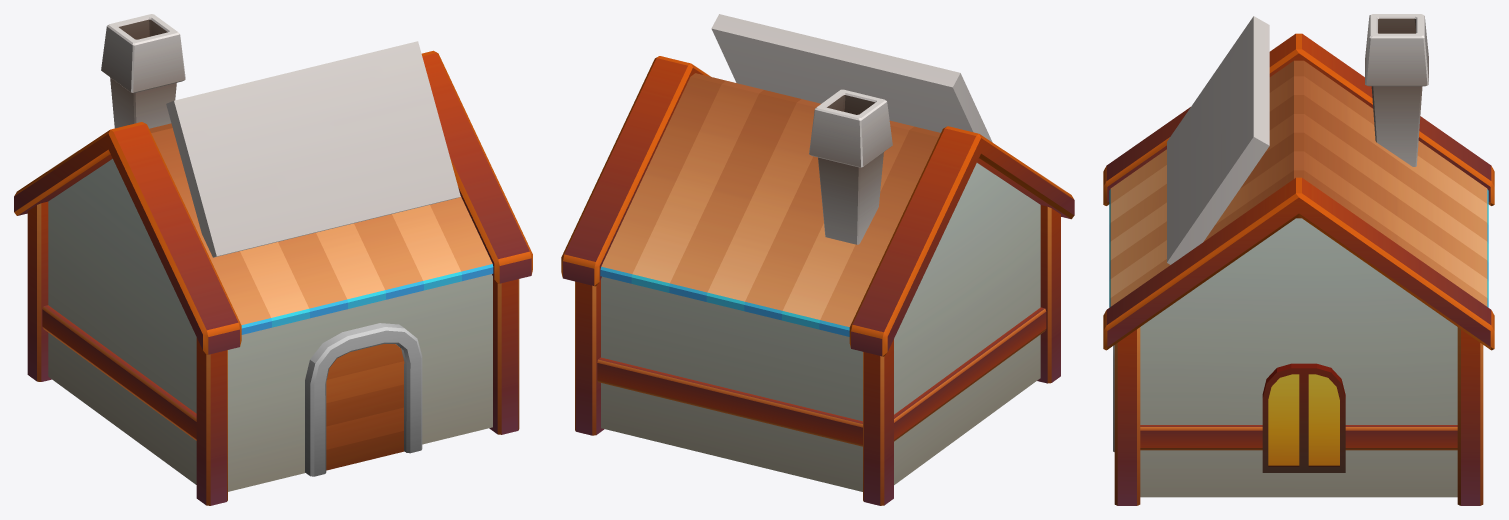
Rendered from Silver_House_1.fbx.
The picture shows the model from 3 angles, left to right: view 1: azimuth 30°, elevation 25°; view 2: azimuth 150°, elevation 25°; view 3: azimuth 270°, elevation 25°; orthographic projection. The views are drawn at different scales.
Visible parts, largest first — view 1: Silver_House_Lv1; view 2: Silver_House_Lv1; view 3: Silver_House_Lv1.
Part boxes in pixels (x1,y1,x2,y2): Silver_House_Lv1: (14,14,532,505); Silver_House_Lv1: (561,14,1074,505); Silver_House_Lv1: (1103,14,1494,505).
Size of the model in its own units: 0.8016 by 0.831 by 0.8116.
Materials: 1 (1 with a texture image).
